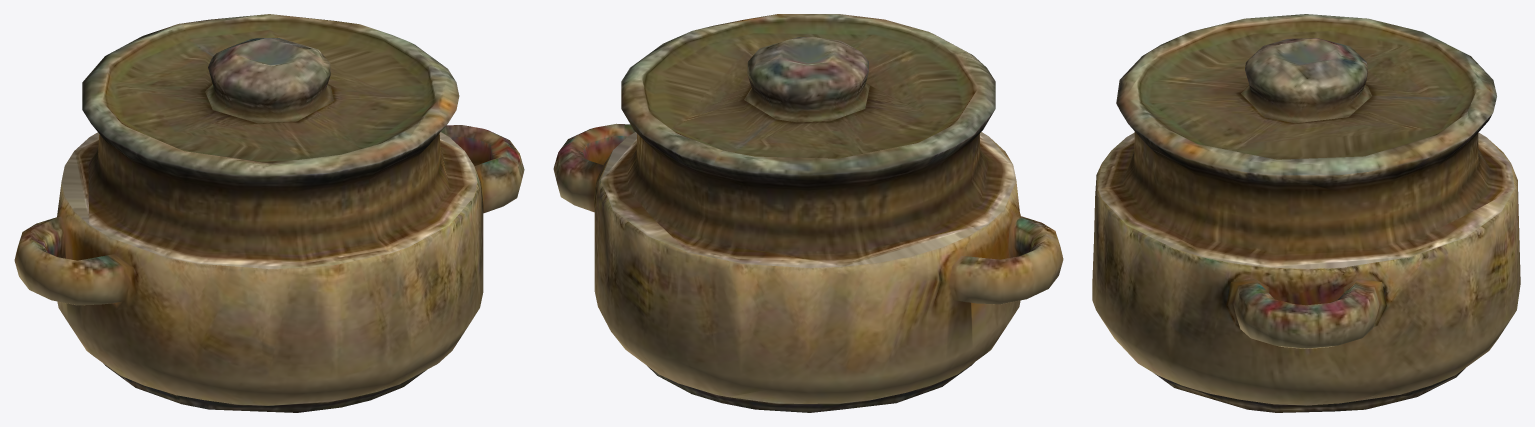
Rendered from ceramic_pot.glb.
3 views of the same model, side by side, from view 1: azimuth 30°, elevation 25°; view 2: azimuth 150°, elevation 25°; view 3: azimuth 270°, elevation 25° (orthographic).
Visible parts, largest first — view 1: ceramic_pot; view 2: ceramic_pot; view 3: ceramic_pot.
Part boxes in pixels (x1,y1,x2,y2): ceramic_pot: (14, 14, 524, 412); ceramic_pot: (553, 14, 1063, 412); ceramic_pot: (1092, 14, 1520, 412).
Size of the model in its own units: 0.6563 by 0.3717 by 0.4989.
Materials: 1 (1 with a texture image).
